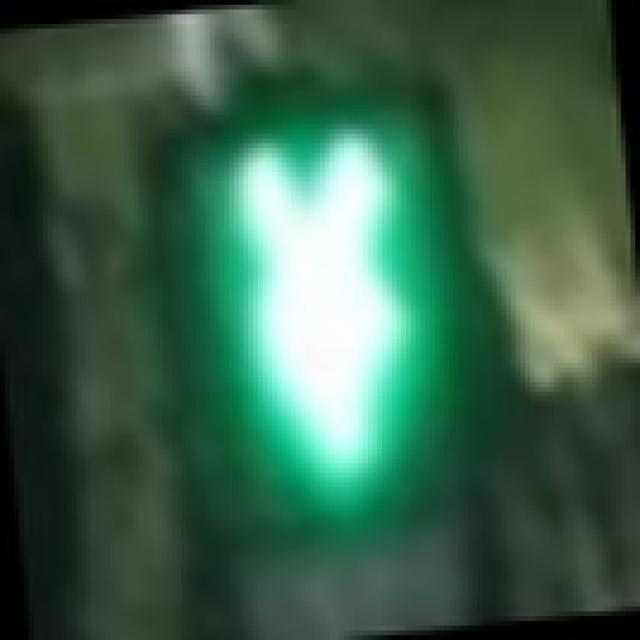geen-crossing: (138, 86, 482, 540)
